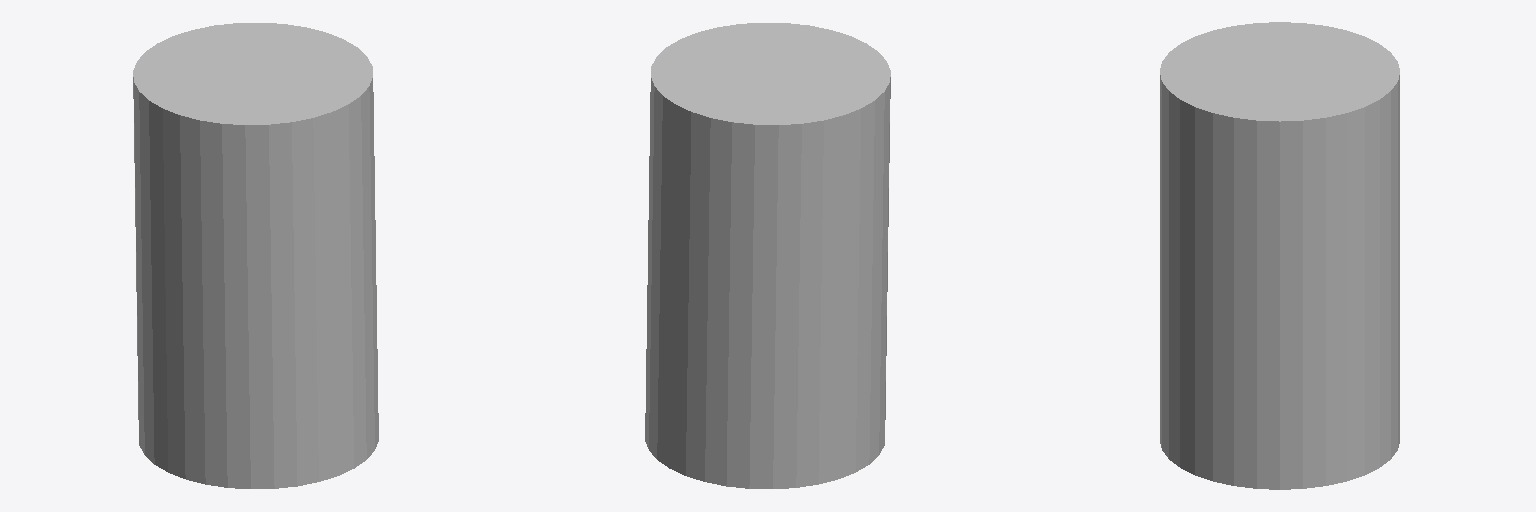
File: LegUp.obj
3 renders of one model, left to right at view 1: azimuth 30°, elevation 25°; view 2: azimuth 150°, elevation 25°; view 3: azimuth 270°, elevation 25°, orthographic.
Parts seen in each view (by area): view 1: LegUp; view 2: LegUp; view 3: LegUp.
Part boxes in pixels (left/top/right/bottom): LegUp: left=133, top=23, right=378, bottom=488; LegUp: left=645, top=23, right=890, bottom=488; LegUp: left=1160, top=22, right=1399, bottom=489.
Size of the model in its own units: 0.4013 by 0.6588 by 0.3907.